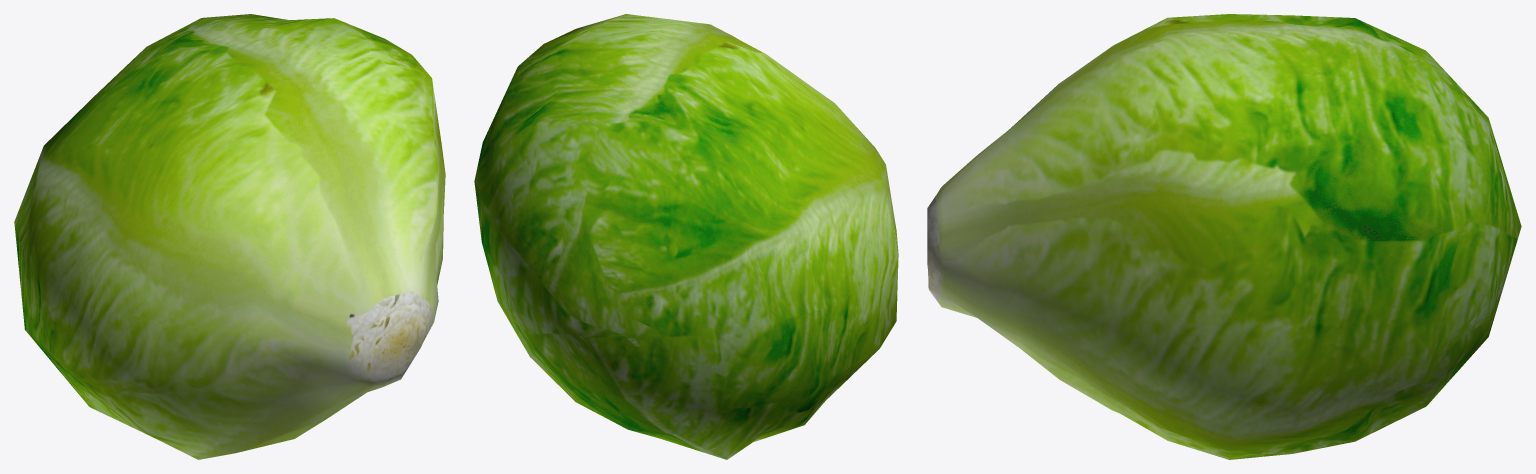
File: Lettuce_28_lettuce_c8.obj
3 views of the same model, side by side, from view 1: azimuth 30°, elevation 25°; view 2: azimuth 150°, elevation 25°; view 3: azimuth 270°, elevation 25° (orthographic). The views are drawn at different scales.
Bounding box in the file's own units: 0.1704 × 0.167 × 0.2013.
